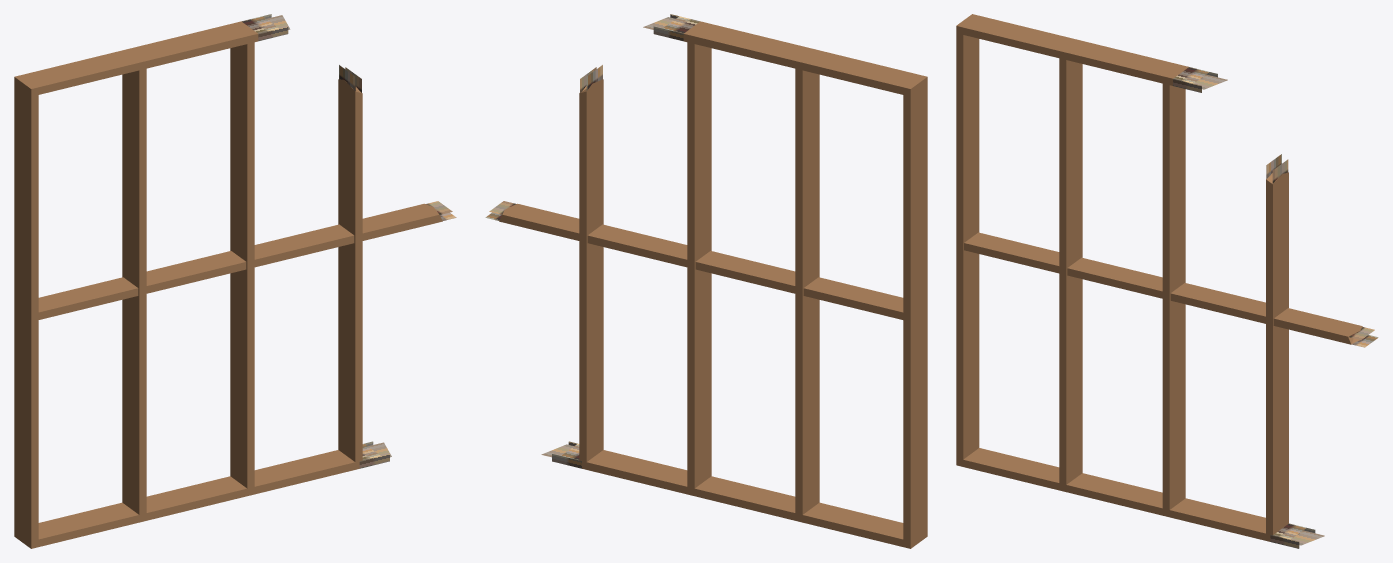
Rendered from DBK_WoodFrame_Side_A.fbx.
The picture shows the model from 3 angles, left to right: view 1: azimuth 30°, elevation 25°; view 2: azimuth 150°, elevation 25°; view 3: azimuth 330°, elevation 25°; orthographic projection. The views are drawn at different scales.
Visible parts, largest first — view 1: DBK_WoodFrame_Side_A; view 2: DBK_WoodFrame_Side_A; view 3: DBK_WoodFrame_Side_A.
Part boxes in pixels (x1=…): DBK_WoodFrame_Side_A: x1=14, y1=14, x2=456, y2=548; DBK_WoodFrame_Side_A: x1=485, y1=14, x2=927, y2=548; DBK_WoodFrame_Side_A: x1=956, y1=14, x2=1378, y2=548.
Size of the model in its own units: 291 by 300 by 20.
